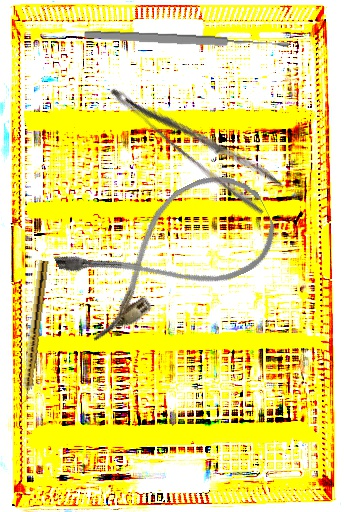Cannula: (50, 158, 288, 346)
Dressing Forceps: (105, 60, 286, 219)
Handpiece: (18, 259, 49, 406)
Surgical Spoon: (83, 28, 290, 52)
